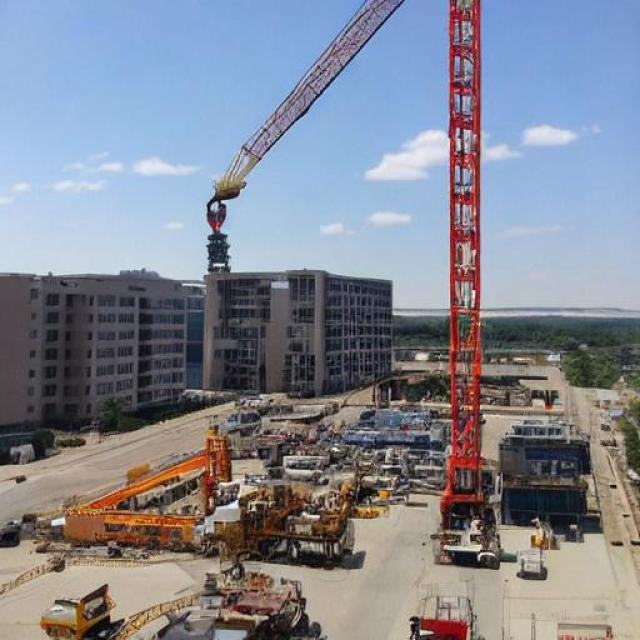crane: (264, 40, 640, 178), (408, 179, 576, 342)
truck: (137, 2, 225, 393)
